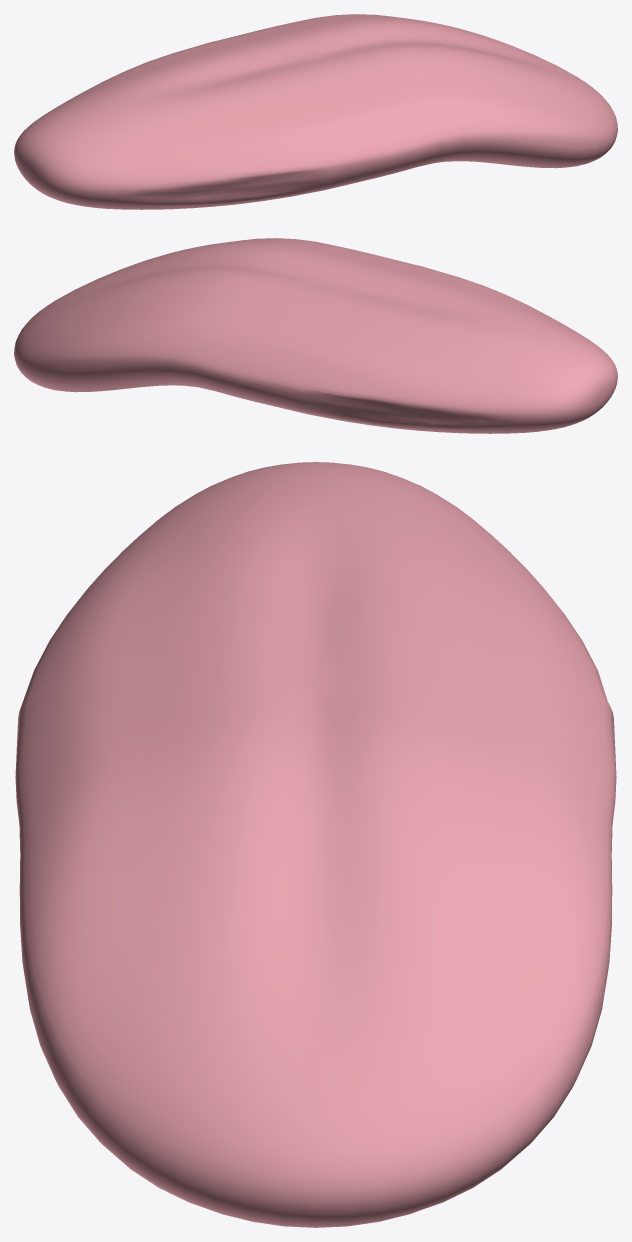
File: lengua.glb
3 views of the same model, one above another, from view 1: azimuth 30°, elevation 25°; view 2: azimuth 150°, elevation 25°; view 3: azimuth 270°, elevation 25° (orthographic). The views are drawn at different scales.
Parts seen in each view (by area): view 1: lengua; view 2: lengua; view 3: lengua.
Boxes of the visible parts, x1,y1,x2,y2 form: lengua: [14, 14, 617, 209]; lengua: [14, 238, 617, 433]; lengua: [15, 462, 616, 1227].
Size of the model in its own units: 4.4 by 1.1 by 2.
